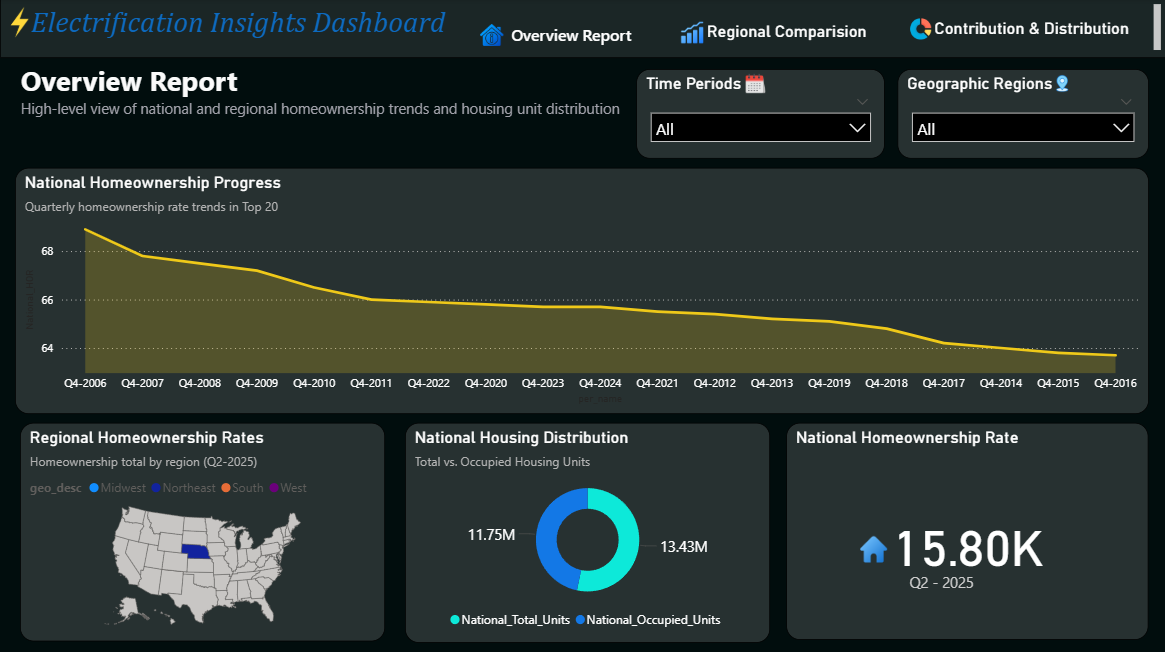

This screenshot's page, from the dashboard's own definition file:
{"tool":"powerbi","page":{"name":"Overview Report","canvas":[1280,720],"ordinal":0},"visuals":[{"type":"textbox","box":[0,0,1280.3,64.5],"z":0},{"type":"image","box":[0,1.2,43.4,48.3],"z":1000},{"type":"actionButton","box":[511.8,13.7,230.5,50.8],"z":2000},{"type":"textbox","box":[17.5,65,1245,110],"z":3000},{"type":"slicer","title":"           Time Periods","fields":{"Values":["Time_Periods.per_name"]},"box":[698.5,76.8,273.1,98.8],"z":4000},{"type":"slicer","title":"Geographic Regions","fields":{"Values":["Geo_Levels.geo_desc"]},"box":[985.3,76.8,275.8,98.8],"z":5000},{"type":"image","box":[813.1,76,31.4,35],"z":6000},{"type":"image","box":[1150.9,76,30.2,35],"z":7000},{"type":"shapeMap","title":"Regional Homeownership Rates","fields":{"Series":["Geo_Levels.geo_desc"],"Value":["Sum(Whole_Data.val)"],"Category":["Geo_Levels.geo_code"]},"box":[21.7,465.7,400.5,240.1],"z":8000},{"type":"donutChart","title":"National Housing Distribution","fields":{"Y":["Whole_Data.National_Total_Units","Whole_Data.National_Occupied_Units"]},"box":[444,465.7,400.5,241.3],"z":9000},{"type":"lineChart","title":"National Homeownership Progress","fields":{"Y":["Whole_Data.National_HOR"],"Category":["Time_Periods.per_name"]},"box":[16.9,184.6,1245,270.2],"z":10000},{"type":"card","title":"National Homeownership Rate","fields":{"Values":["Whole_Data.National_HOR"]},"box":[863.1,465.2,397.9,238.8],"z":11000},{"type":"image","box":[933.1,584.6,52.1,39.8],"z":12000},{"type":"textbox","box":[994.1,624.9,133.9,44.6],"z":13000},{"type":"actionButton","title":"Regional Comparision","box":[742.4,24.7,242.9,39.8],"z":14000},{"type":"actionButton","title":"Contribution & Distribution","box":[985.3,22,295,42.5],"z":15000},{"type":"image","box":[521.4,22,37,35.7],"z":16000},{"type":"image","box":[993.5,16.5,34.3,32.9],"z":17000},{"type":"image","box":[742.4,19.2,35.7,35.7],"z":18000}]}

Visuals, with their boxes in screenshot pixels (x1, y1, x2, y2), scaled from the page's 1280x720 canvas onto the 1165x652 screenshot:
textbox: x1=0 y1=0 x2=1164 y2=58
image: x1=0 y1=1 x2=40 y2=45
actionButton: x1=466 y1=12 x2=676 y2=58
textbox: x1=16 y1=59 x2=1149 y2=158
"           Time Periods" slicer: x1=636 y1=70 x2=884 y2=159
"Geographic Regions" slicer: x1=897 y1=70 x2=1148 y2=159
image: x1=740 y1=69 x2=769 y2=101
image: x1=1047 y1=69 x2=1075 y2=101
"Regional Homeownership Rates" shapeMap: x1=20 y1=422 x2=384 y2=639
"National Housing Distribution" donutChart: x1=404 y1=422 x2=769 y2=640
"National Homeownership Progress" lineChart: x1=15 y1=167 x2=1149 y2=412
"National Homeownership Rate" card: x1=786 y1=421 x2=1148 y2=638
image: x1=849 y1=529 x2=897 y2=565
textbox: x1=905 y1=566 x2=1027 y2=606
"Regional Comparision" actionButton: x1=676 y1=22 x2=897 y2=58
"Contribution & Distribution" actionButton: x1=897 y1=20 x2=1164 y2=58
image: x1=475 y1=20 x2=508 y2=52
image: x1=904 y1=15 x2=935 y2=45
image: x1=676 y1=17 x2=708 y2=50
